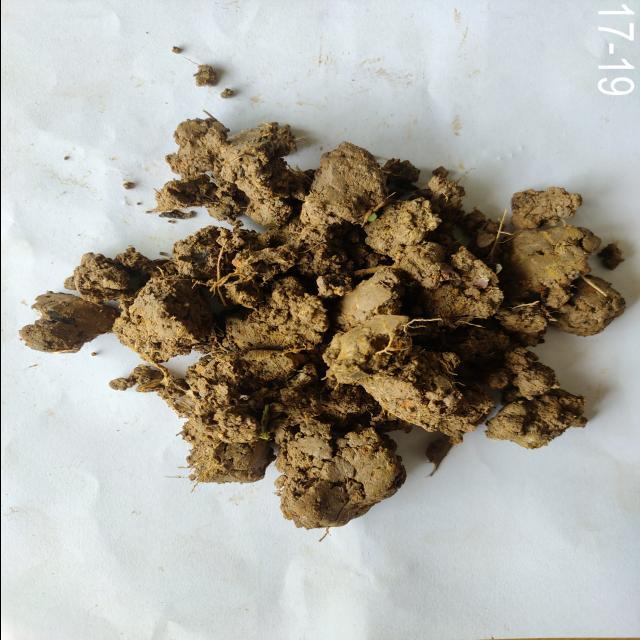soil: (163, 247, 535, 402)
